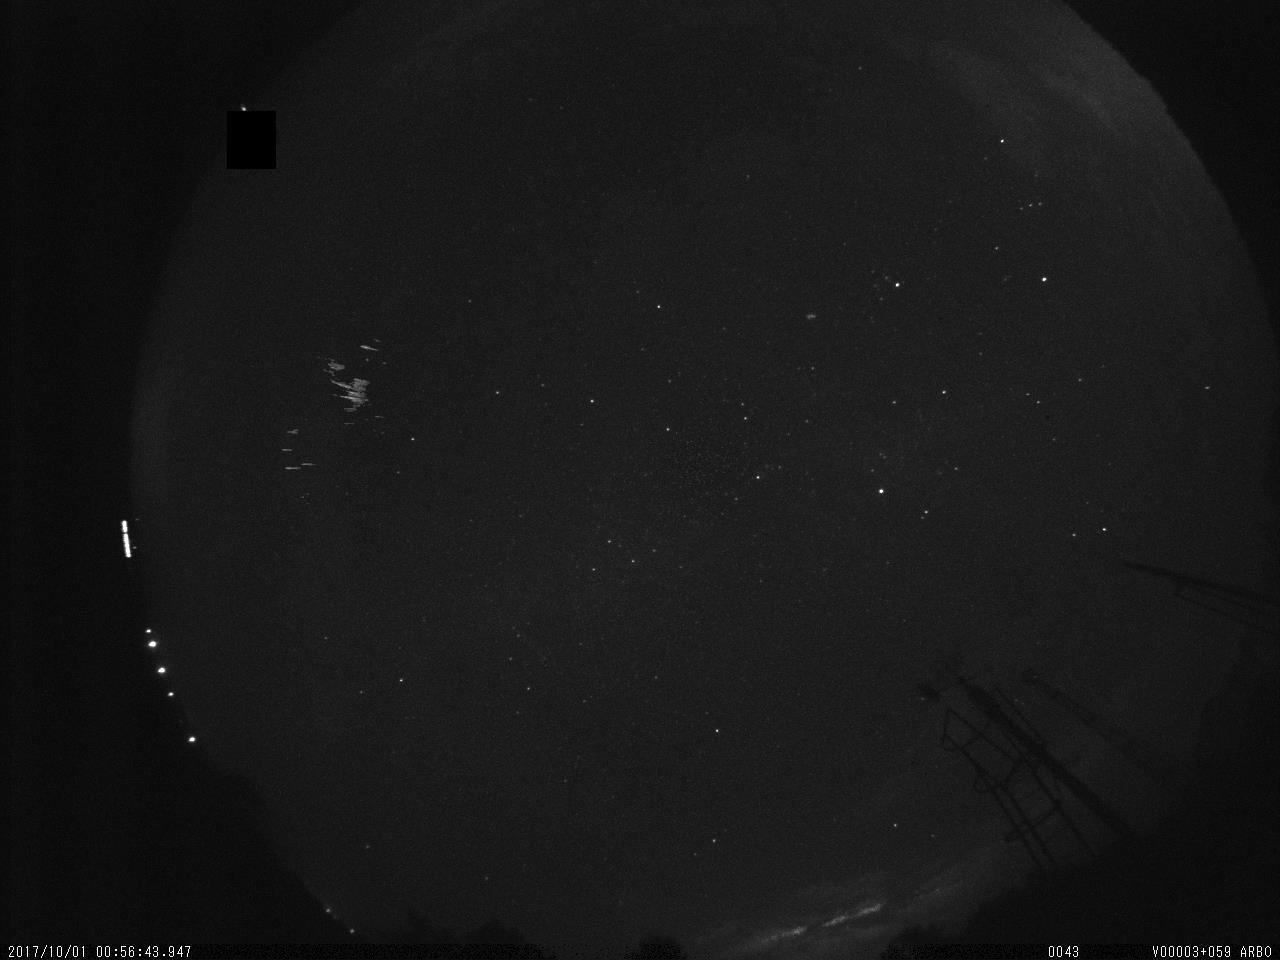TLE: (279, 306, 389, 507)
